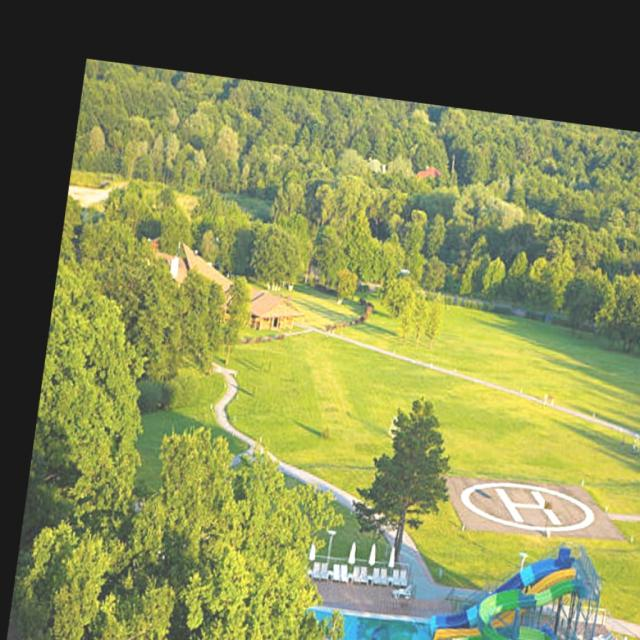helipad: (458, 474, 598, 535)
